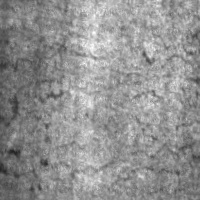crazing: (70, 16, 200, 105), (0, 24, 78, 128), (109, 108, 198, 196)
